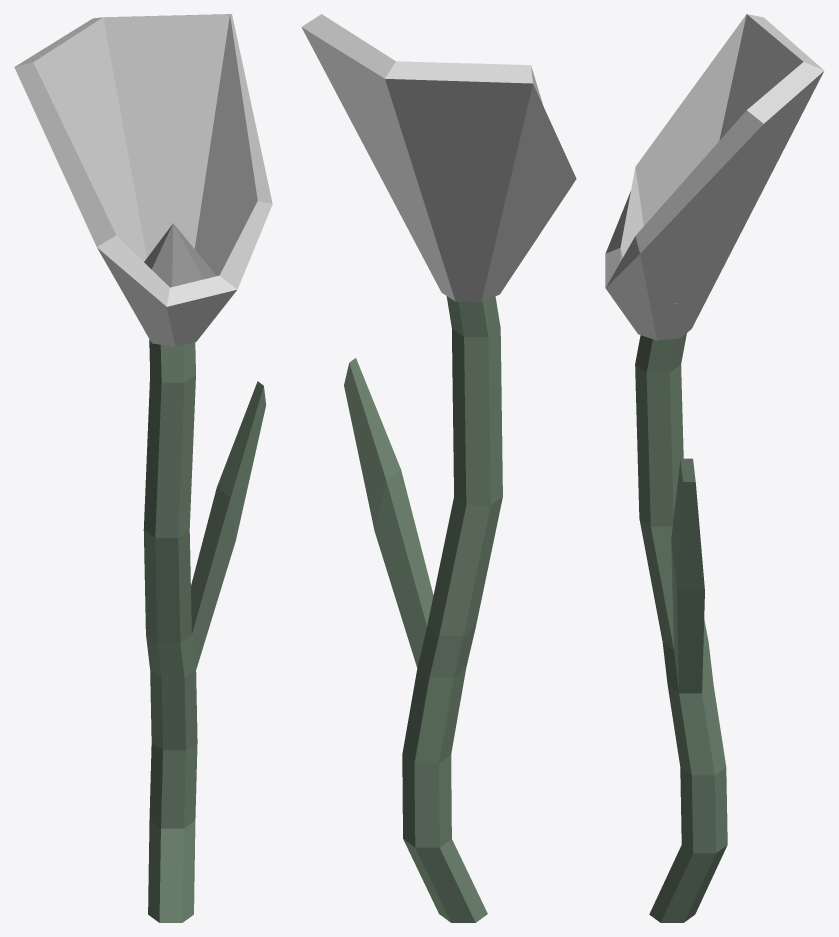
File: Flower_5_White.fbx
3 views of the same model, side by side, from view 1: azimuth 30°, elevation 25°; view 2: azimuth 150°, elevation 25°; view 3: azimuth 270°, elevation 25° (orthographic). The views are drawn at different scales.
Visible parts, largest first — view 1: Flower_5_White_Part_2, Flower_5_White_Part_1, Flower_5_White_Part_3; view 2: Flower_5_White_Part_2, Flower_5_White_Part_1; view 3: Flower_5_White_Part_2, Flower_5_White_Part_1.
Part boxes in pixels (x1,y1,x2,y2): Flower_5_White_Part_2: (14, 14, 272, 346); Flower_5_White_Part_1: (143, 339, 265, 922); Flower_5_White_Part_3: (144, 223, 216, 287); Flower_5_White_Part_2: (301, 14, 576, 302); Flower_5_White_Part_1: (344, 296, 502, 922); Flower_5_White_Part_2: (605, 14, 824, 340); Flower_5_White_Part_1: (635, 333, 727, 922).
Size of the model in its own units: 10.95 by 40.82 by 9.51.
